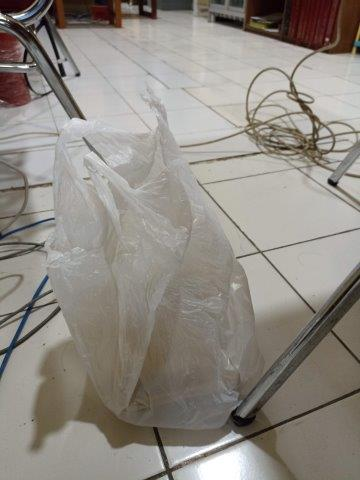plastik: (45, 111, 264, 428)
